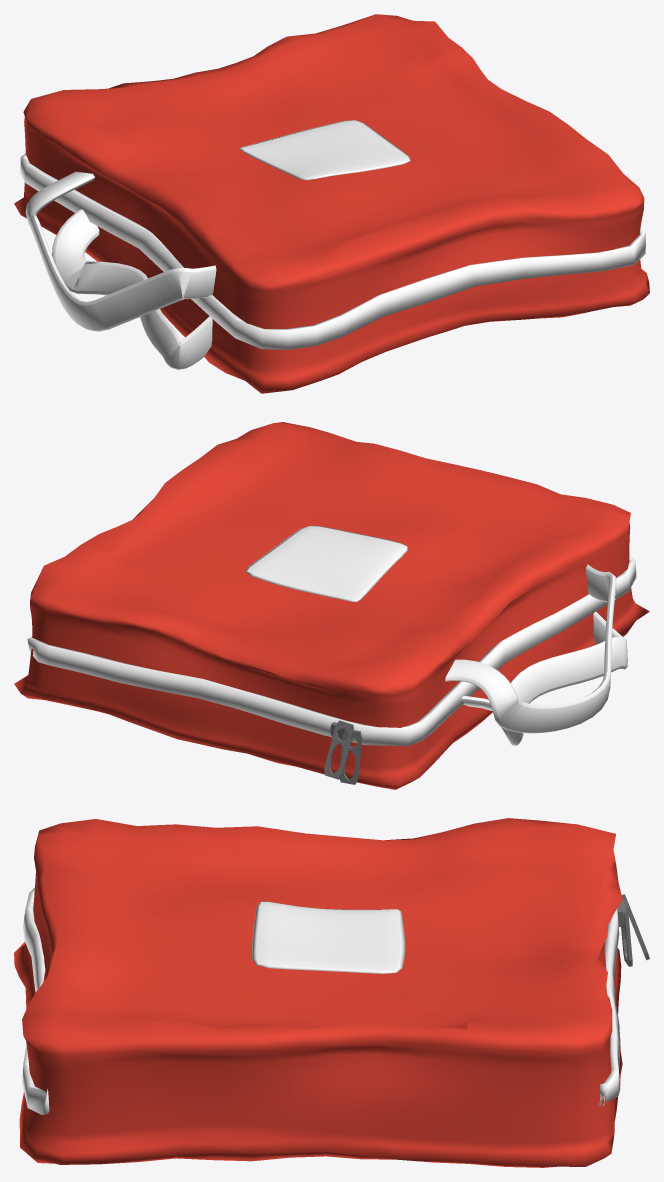
The model's file is first_aid_kit001.fbx.
3 renders of one model, top to bottom at view 1: azimuth 30°, elevation 25°; view 2: azimuth 150°, elevation 25°; view 3: azimuth 270°, elevation 25°, orthographic. The views are drawn at different scales.
Parts seen in each view (by area): view 1: Cube, BezierCurve.002, BezierCurve, BezierCurve.001, Plane; view 2: Cube, BezierCurve.002, Plane, BezierCurve, BezierCurve.001, Plane.002, Plane.001; view 3: Cube, Plane, BezierCurve.002.
Part boxes in pixels (x1=…): Cube: x1=14, y1=14, x2=649, y2=393; BezierCurve.002: x1=20, y1=153, x2=645, y2=349; BezierCurve: x1=25, y1=171, x2=216, y2=331; BezierCurve.001: x1=52, y1=209, x2=212, y2=369; Plane: x1=239, y1=120, x2=410, y2=180; Cube: x1=14, y1=422, x2=649, y2=789; BezierCurve.002: x1=27, y1=557, x2=636, y2=746; Plane: x1=245, y1=526, x2=407, y2=601; BezierCurve: x1=445, y1=564, x2=616, y2=733; BezierCurve.001: x1=461, y1=612, x2=627, y2=745; Plane.002: x1=324, y1=720, x2=353, y2=779; Plane.001: x1=340, y1=729, x2=362, y2=784; Cube: x1=14, y1=818, x2=622, y2=1167; Plane: x1=251, y1=901, x2=405, y2=973; BezierCurve.002: x1=22, y1=887, x2=620, y2=1114.
Size of the model in its own units: 40.49 by 10.37 by 40.4.
